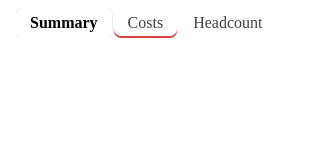
Test: the keyboard › a double click renames, and an empty or unchanged name is not sent
The width and height of the screenshot is (324, 160).
Later steps or results of the test are not shown.
Double-click the tab "Costs": (145, 23) [114,8,177,38]
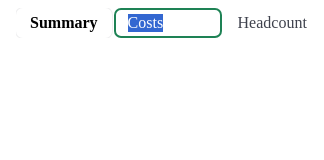
Check: the field named "Sheet name" holds "Costs", box [114,8,222,38]
